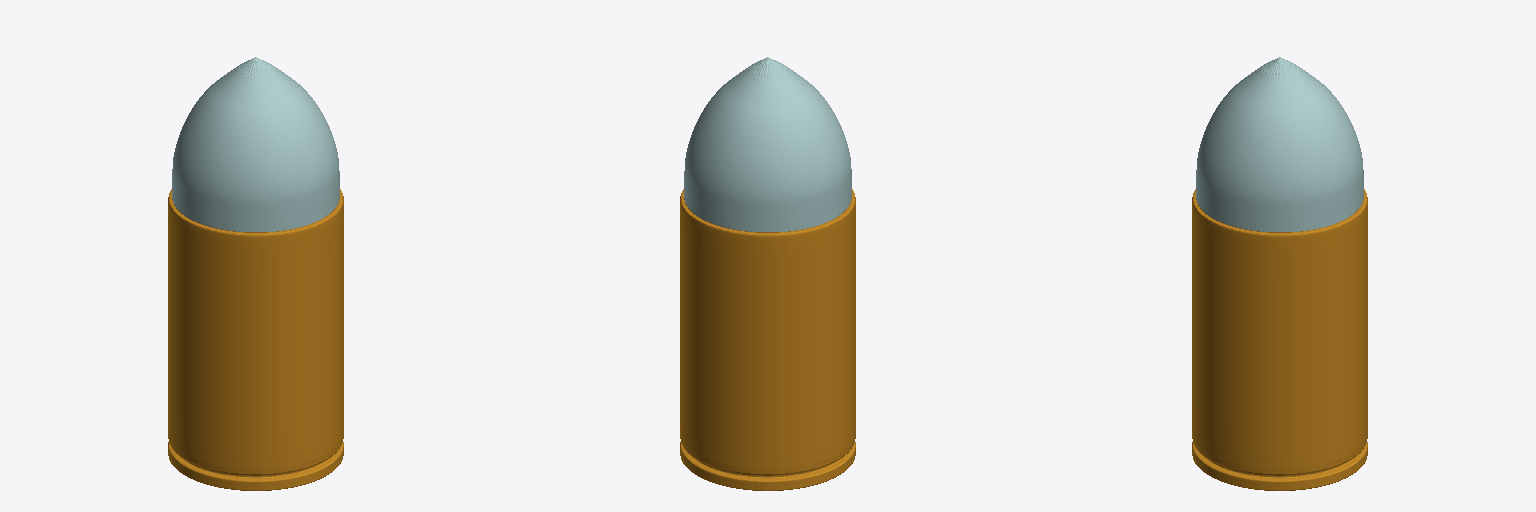
Rendered from bullet.obj.
3 renders of one model, left to right at view 1: azimuth 30°, elevation 25°; view 2: azimuth 150°, elevation 25°; view 3: azimuth 270°, elevation 25°, orthographic.
Visible parts, largest first — view 1: Cylinder; view 2: Cylinder; view 3: Cylinder.
Boxes of the visible parts, box(x1,y1,x2,y2) form: Cylinder: box(168, 57, 343, 490); Cylinder: box(680, 57, 855, 490); Cylinder: box(1192, 57, 1367, 490).
Size of the model in its own units: 1.99 by 4.95 by 1.99.